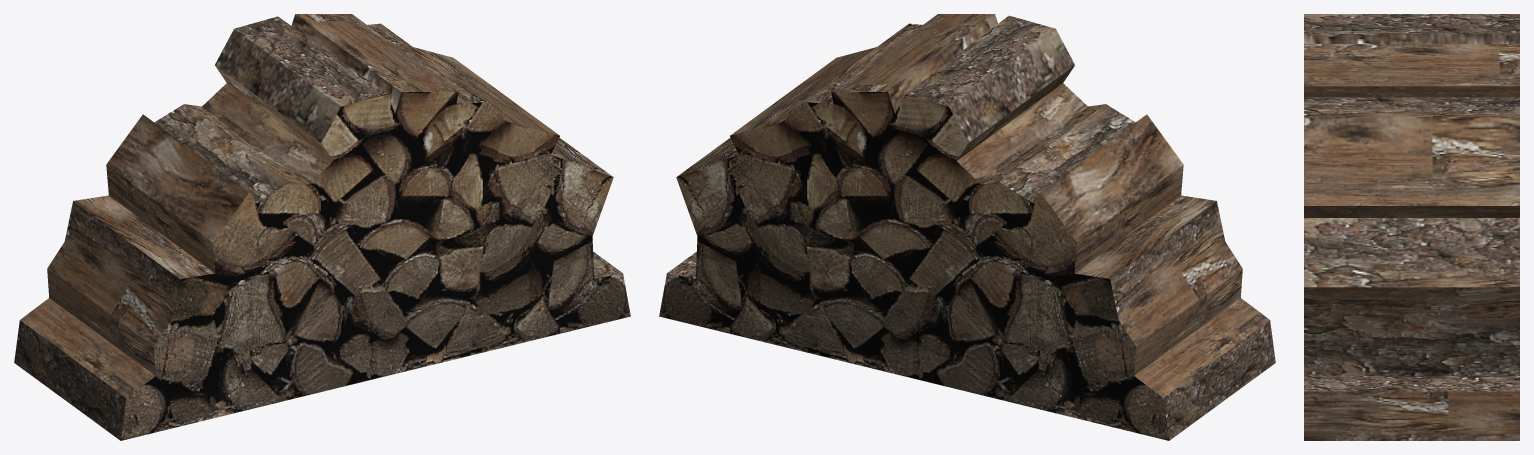
File: Lumber2_LOD1.fbx
3 views of the same model, side by side, from view 1: azimuth 30°, elevation 25°; view 2: azimuth 150°, elevation 25°; view 3: azimuth 270°, elevation 25° (orthographic).
Parts seen in each view (by area): view 1: polySurface443; view 2: polySurface443; view 3: polySurface443.
Boxes of the visible parts, x1,y1,x2,y2 form: polySurface443: [14, 14, 630, 440]; polySurface443: [659, 14, 1275, 440]; polySurface443: [1304, 14, 1519, 440].
Bounding box in the file's own units: 5.78 × 3.06 × 2.09.
